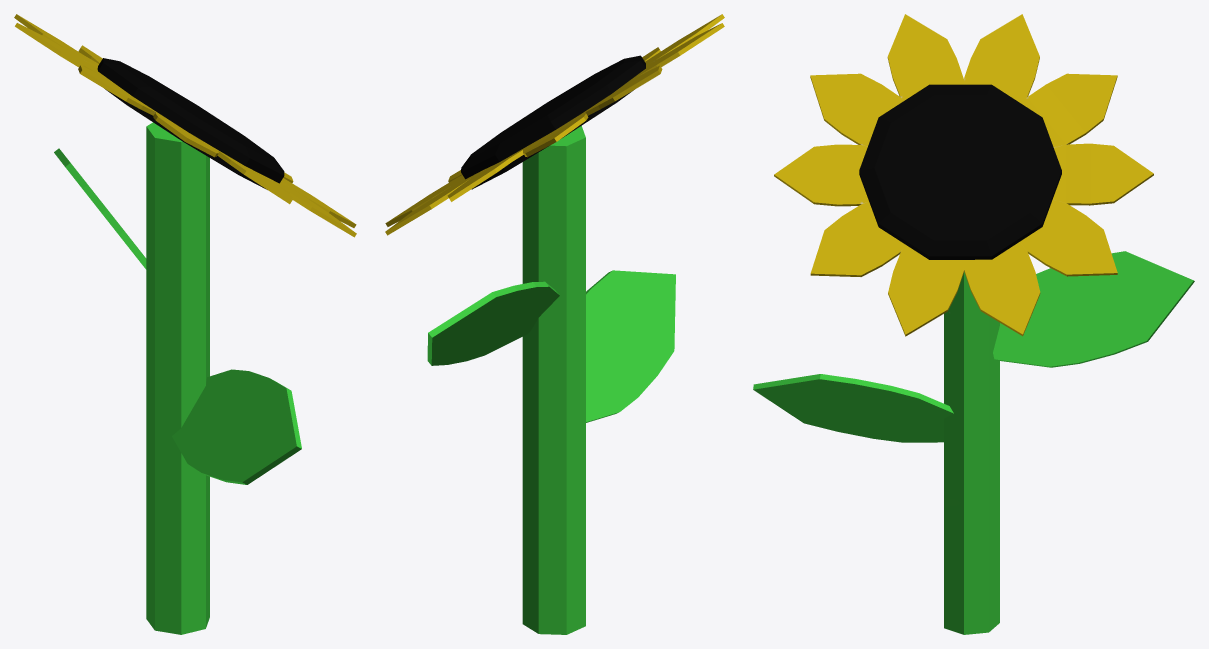
Rendered from SunflowerSingle.fbx.
3 views of the same model, side by side, from view 1: azimuth 30°, elevation 25°; view 2: azimuth 150°, elevation 25°; view 3: azimuth 270°, elevation 25° (orthographic). The views are drawn at different scales.
Visible parts, largest first — view 1: Plane.003; view 2: Plane.003; view 3: Plane.003.
Boxes of the visible parts, bbox=[...] form: Plane.003: bbox=[14, 14, 356, 634]; Plane.003: bbox=[385, 14, 724, 634]; Plane.003: bbox=[753, 14, 1194, 634].
Bounding box in the file's own units: 573 × 1205 × 877.
1 material, 1 textured.
